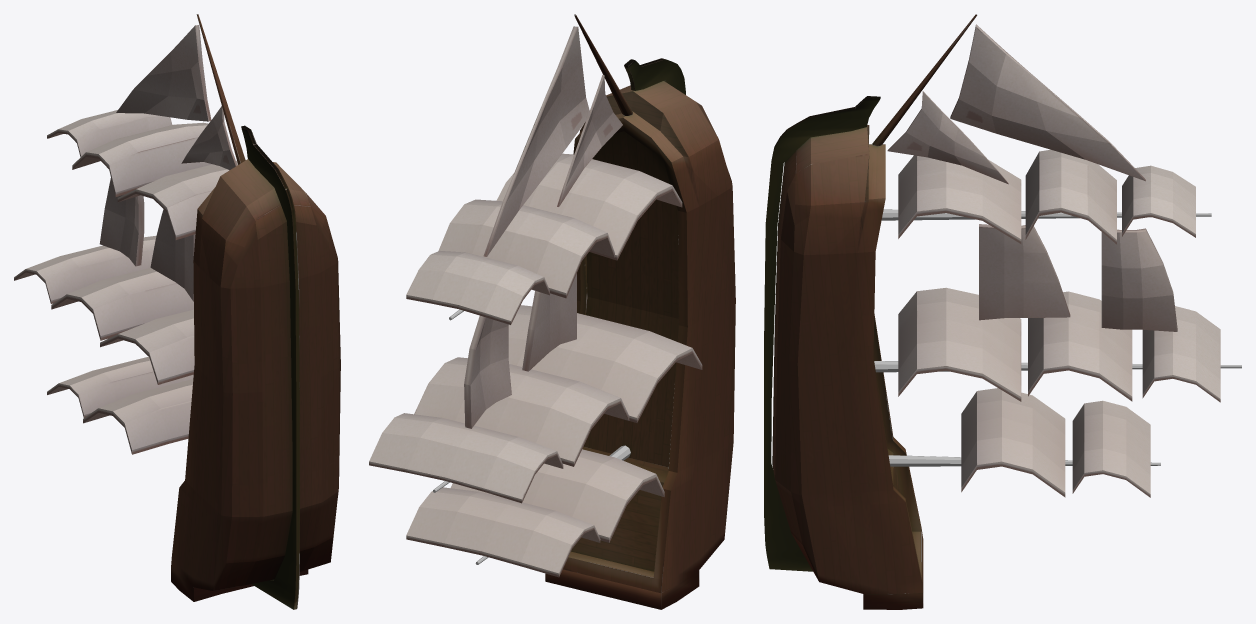
Rendered from ship_of_the_line.fbx.
3 views of the same model, side by side, from view 1: azimuth 30°, elevation 25°; view 2: azimuth 150°, elevation 25°; view 3: azimuth 270°, elevation 25° (orthographic). The views are drawn at different scales.
Visible parts, largest first — view 1: Cube.002; view 2: Cube.002; view 3: Cube.002.
Boxes of the visible parts, x1,y1,x2,y2 form: Cube.002: (14, 14, 340, 609); Cube.002: (369, 14, 735, 609); Cube.002: (764, 14, 1241, 609).
Size of the model in its own units: 261 by 873 by 665.
1 material, 1 textured.
